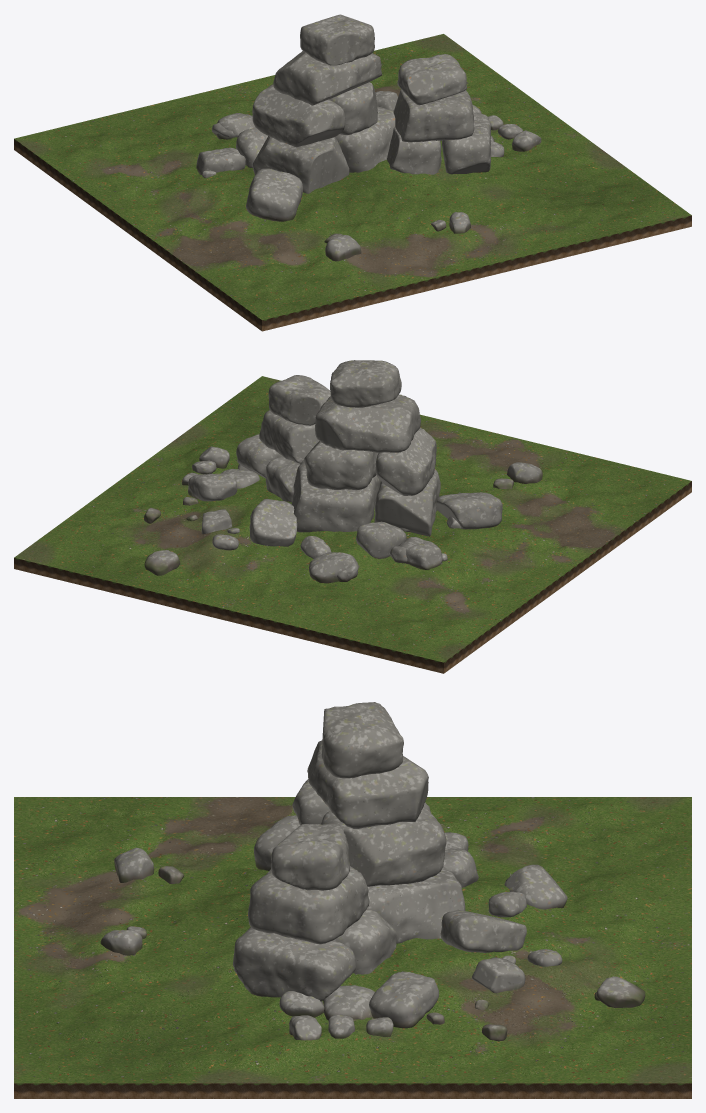
File: rocky-outcrop.glb
The picture shows the model from 3 angles, top to bottom: view 1: azimuth 30°, elevation 25°; view 2: azimuth 150°, elevation 25°; view 3: azimuth 270°, elevation 25°; orthographic projection. The views are drawn at different scales.
Parts seen in each view (by area): view 1: Thin heath turf and growan, Granite tor and clitter boulders; view 2: Thin heath turf and growan, Granite tor and clitter boulders; view 3: Thin heath turf and growan, Granite tor and clitter boulders.
Boxes of the visible parts, bbox=[...] form: Thin heath turf and growan: bbox=[14, 34, 691, 331]; Granite tor and clitter boulders: bbox=[196, 14, 541, 261]; Thin heath turf and growan: bbox=[14, 376, 691, 673]; Granite tor and clitter boulders: bbox=[144, 360, 542, 583]; Thin heath turf and growan: bbox=[14, 797, 691, 1098]; Granite tor and clitter boulders: bbox=[100, 702, 645, 1041].
Size of the model in its own units: 12 by 4.48 by 12.
3 materials, 3 textured.
